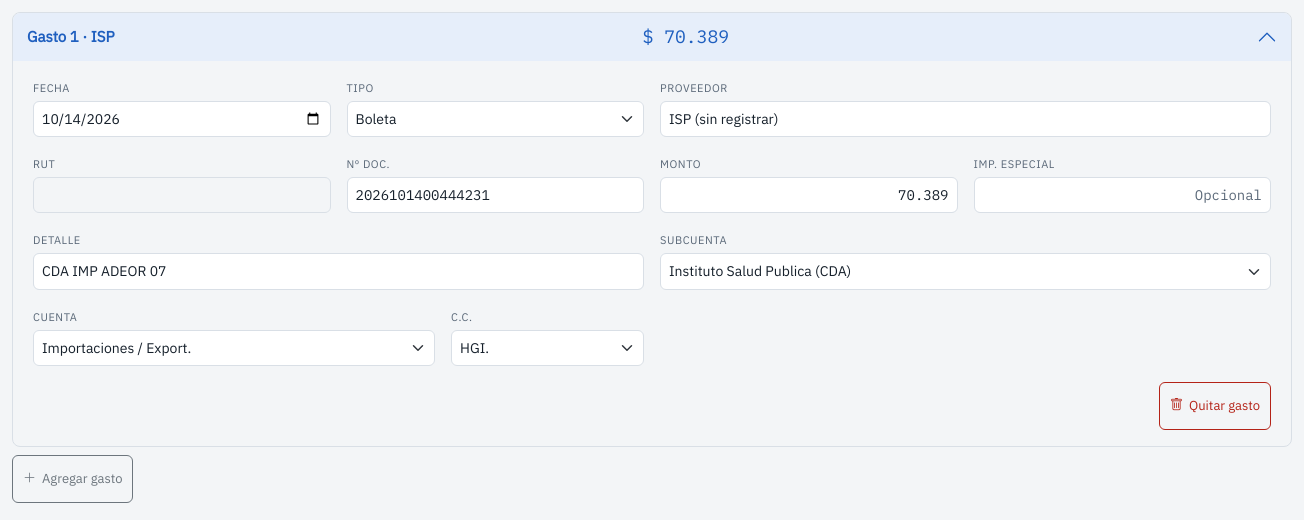
Test case: LineasGastos › el total de la línea se recalcula al editar
The width and height of the screenshot is (1304, 520).
Replace the text in the field named "Monto gasto 1" with "80.389" at (809, 195), box [660, 177, 958, 214]
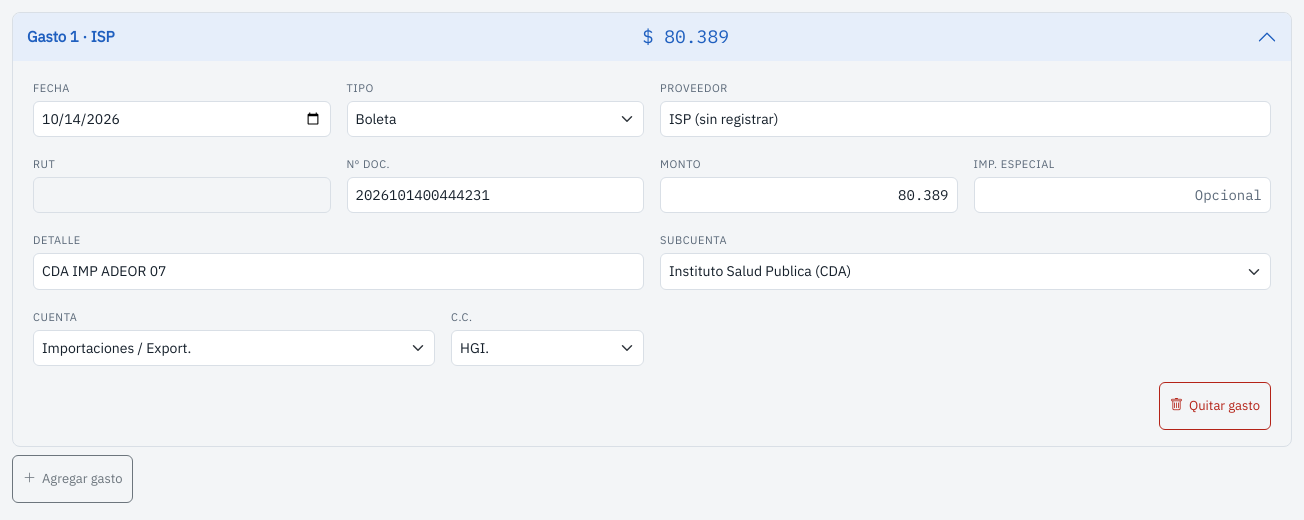
Expected: the text with class "gasto-total" reads "$ 80.389", [643, 25, 729, 48]
